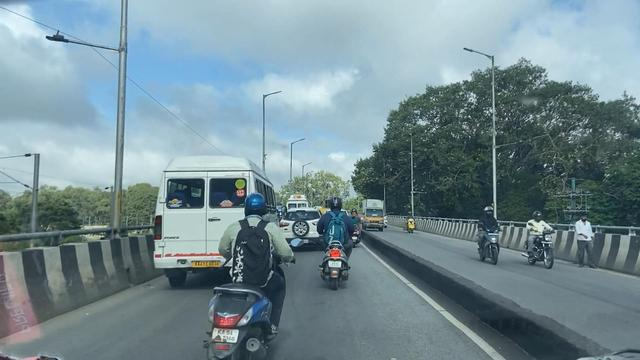LMV: (214, 196, 281, 354), (317, 195, 351, 292)
